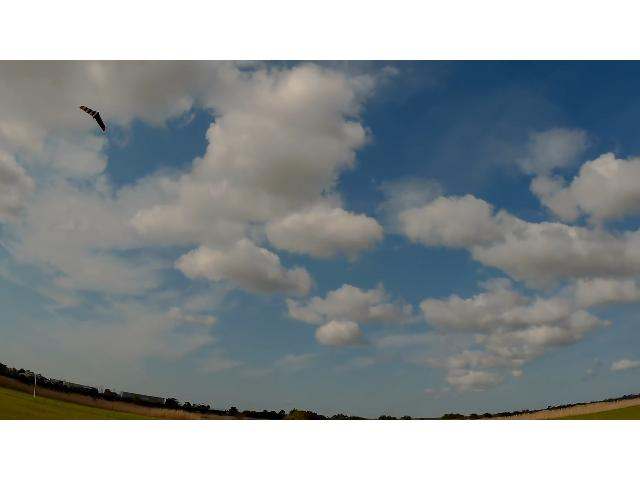Anti-Drone: (79, 107, 105, 132)
